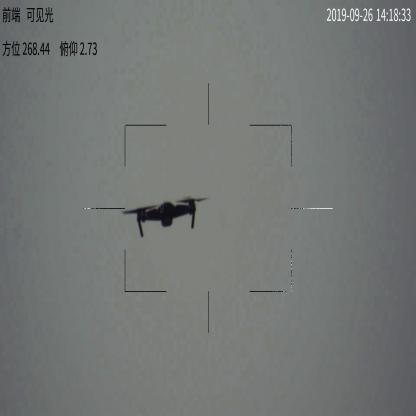uav: (121, 194, 209, 238)
